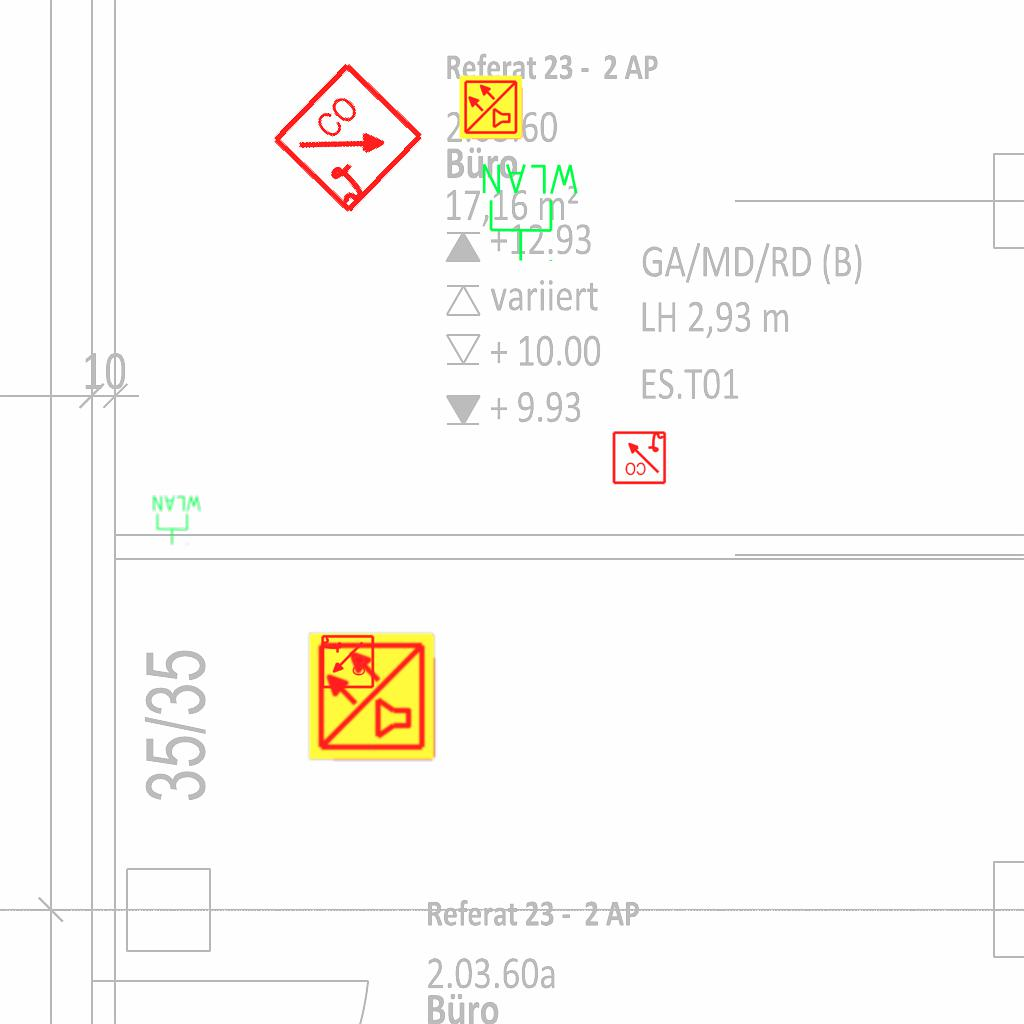OKW_Multisensormelder_(Kombination_optischer_Rauch-Kahlenmonoxid_Waerme-Melder): (306, 630, 438, 762), (458, 74, 524, 140)
ROA_Rauchmelder_optisch_mit_Signalgeber_(Sockelsirene): (269, 58, 430, 219), (611, 429, 667, 485), (319, 634, 375, 690)
WLAN: (478, 160, 583, 264), (151, 494, 203, 546)
